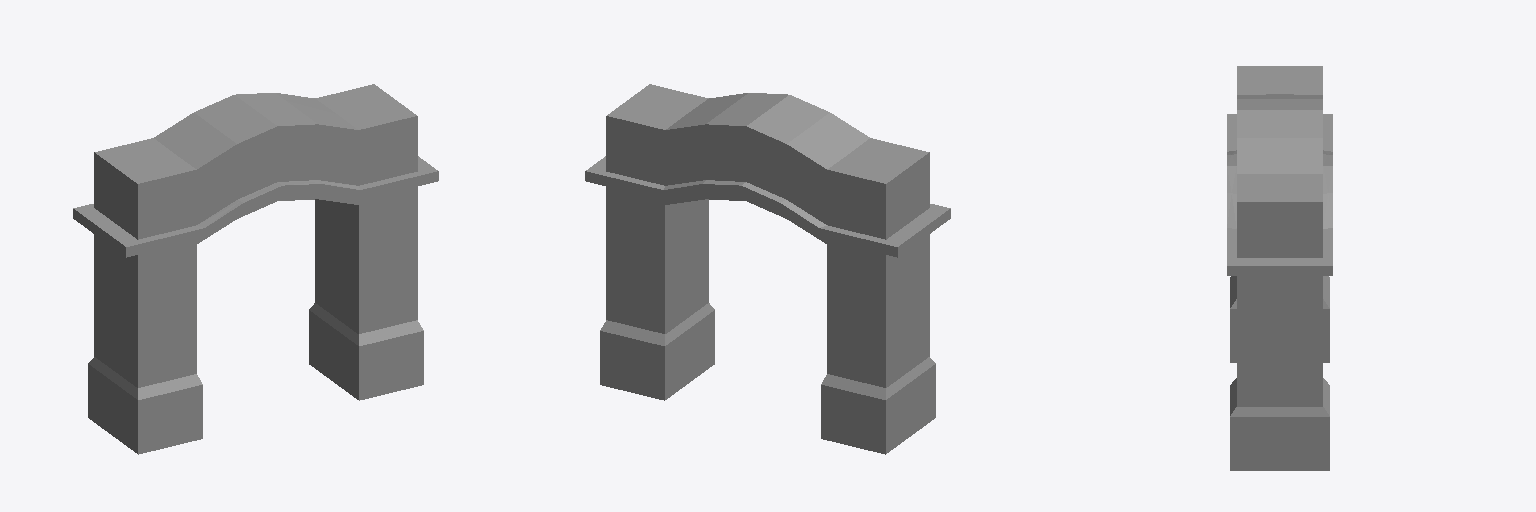
Rendered from Archway_001_low.obj.
The picture shows the model from 3 angles: view 1: azimuth 30°, elevation 25°; view 2: azimuth 150°, elevation 25°; view 3: azimuth 270°, elevation 25°; orthographic projection.
Visible parts, largest first — view 1: Cube; view 2: Cube; view 3: Cube.
Part boxes in pixels (bbox=[...]): Cube: bbox=[73, 84, 438, 454]; Cube: bbox=[585, 84, 950, 454]; Cube: bbox=[1227, 66, 1332, 470].
Bounding box in the file's own units: 0.3849 × 0.3429 × 0.1134.